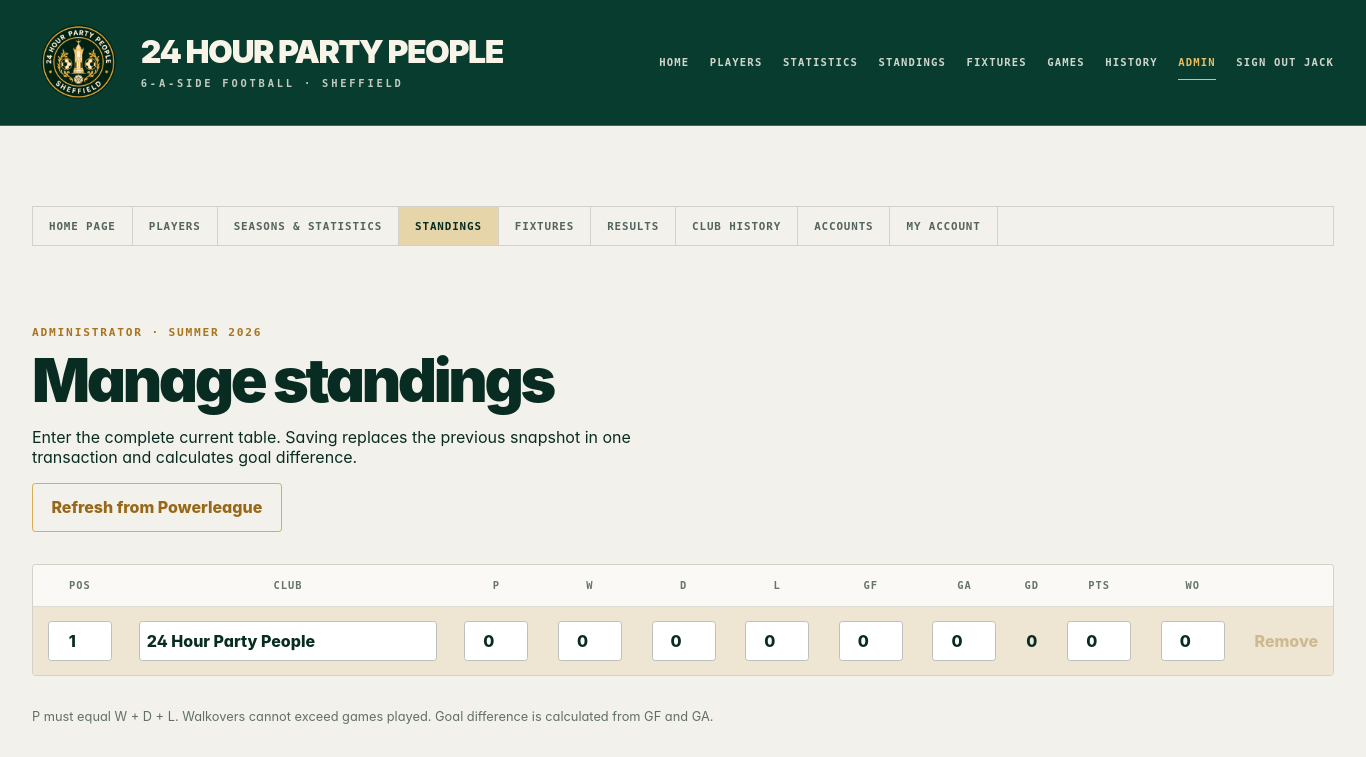
Test: App › lets an administrator refresh cached Powerleague data
What coordinates should you click on to do the following:
click the button "Refresh from Powerleague"
I would click on:
 (157, 507)
Its box is [32,483,282,532].
(page scrolled)
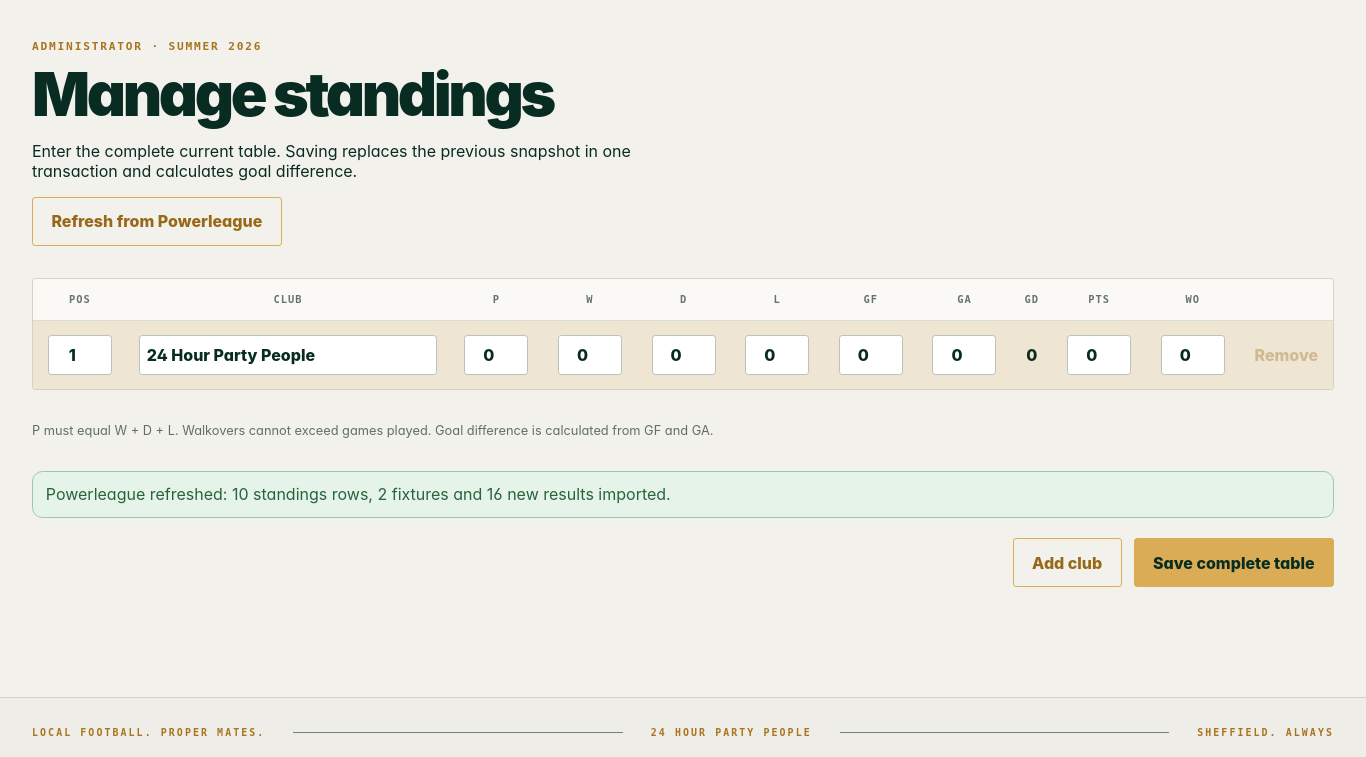
Now the text "Powerleague refreshed: 10 standings rows, 2 fixtures and 16 new results imported." is shown, box [46,484,671,504]
